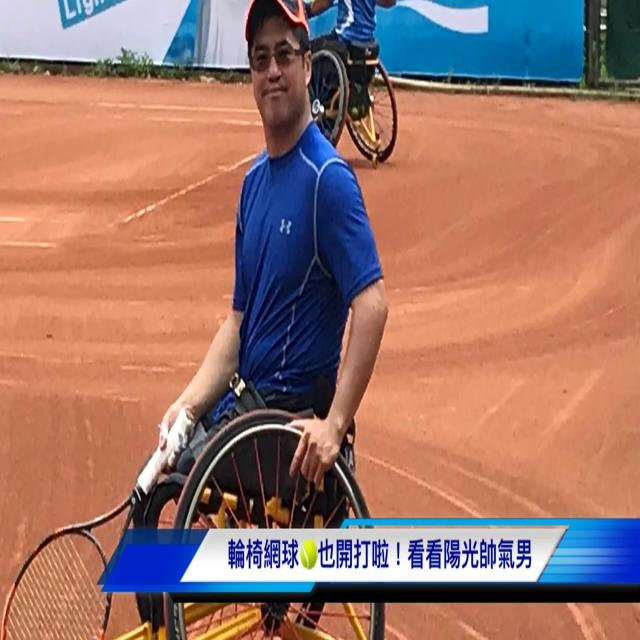wheelchairs: (134, 377, 388, 640)
